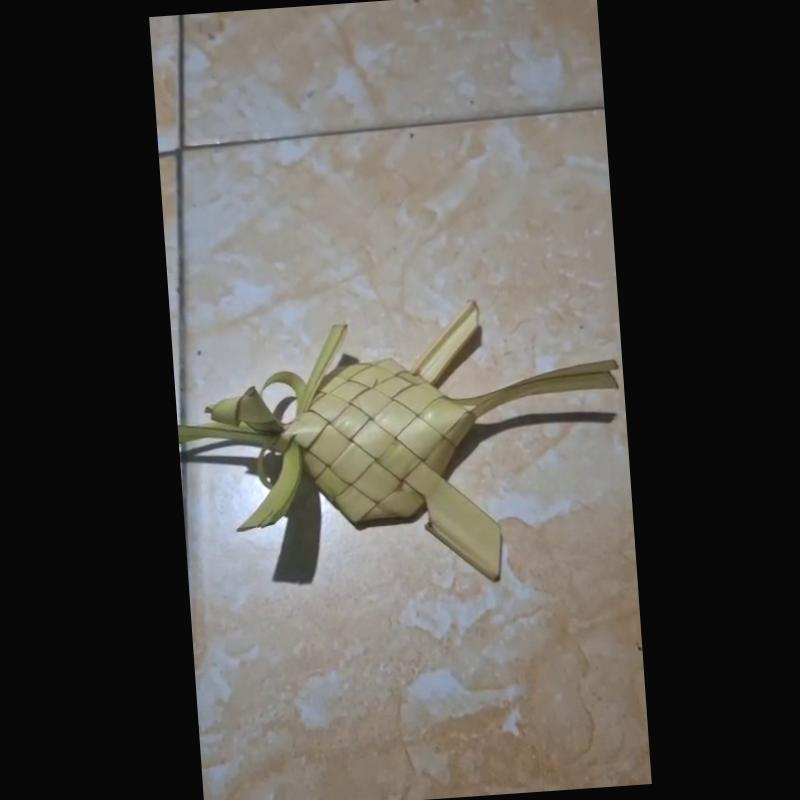Tipat Dampulan: (176, 291, 624, 595)
